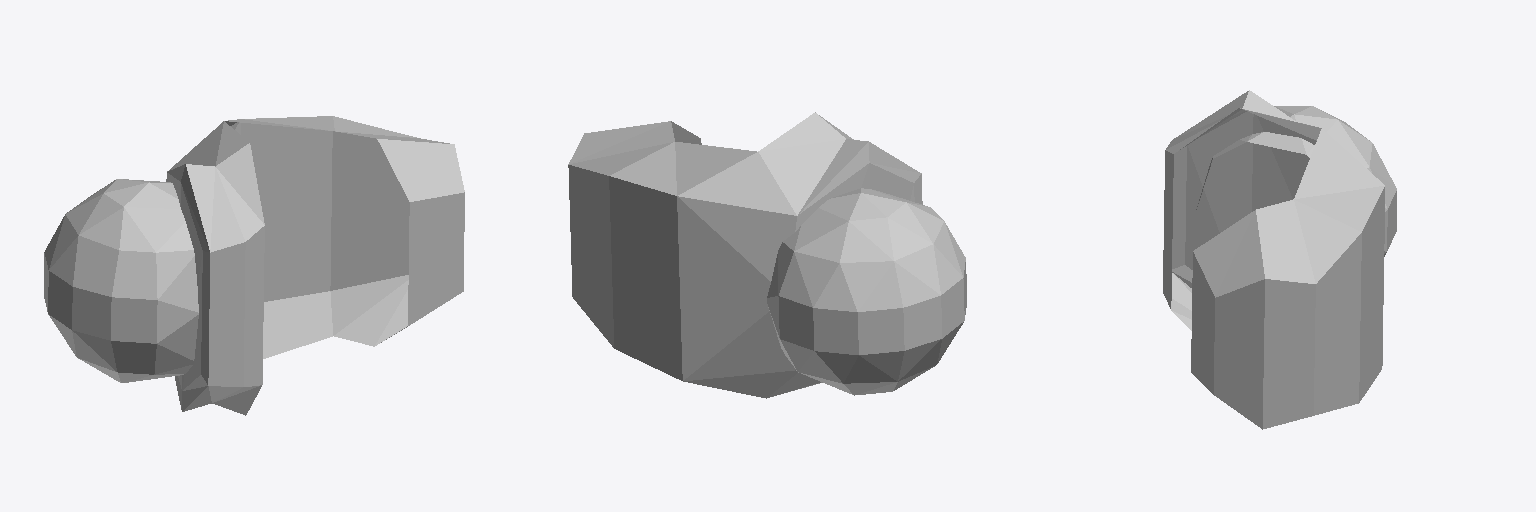
File: PhalaxEnd_0.obj
3 renders of one model, left to right at view 1: azimuth 30°, elevation 25°; view 2: azimuth 150°, elevation 25°; view 3: azimuth 270°, elevation 25°, orthographic.
Bounding box in the file's own units: 0.0225 × 0.0152 × 0.0119.